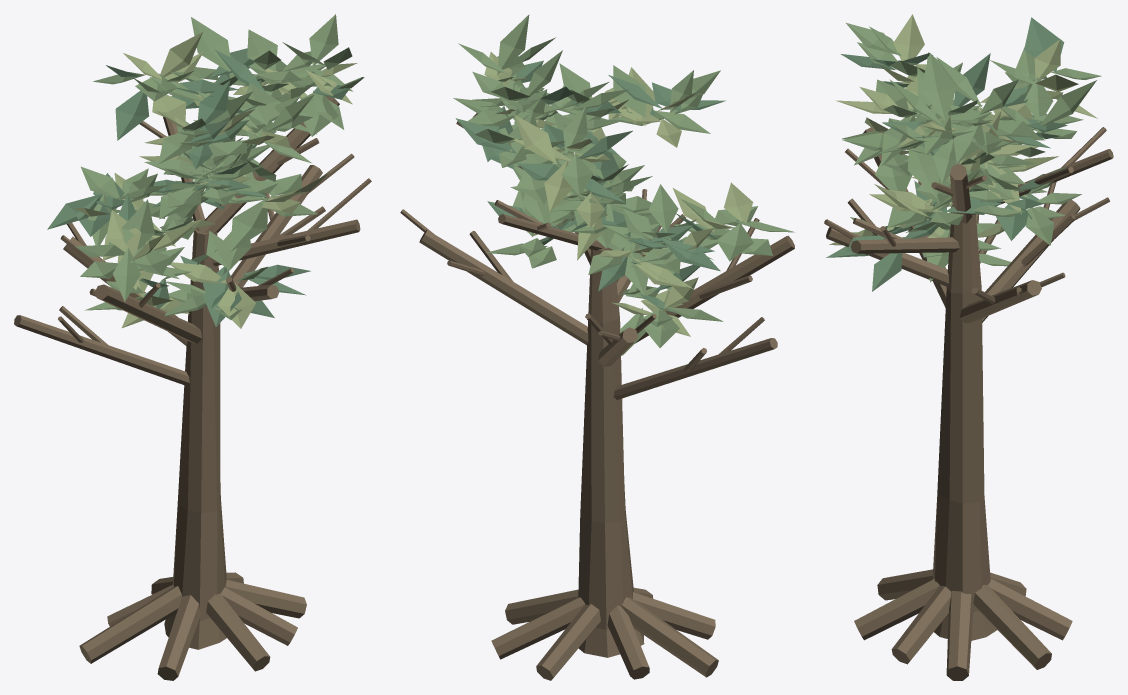
File: marsh_tree.glb
3 renders of one model, left to right at view 1: azimuth 30°, elevation 25°; view 2: azimuth 150°, elevation 25°; view 3: azimuth 270°, elevation 25°, orthographic. The views are drawn at different scales.
Parts seen in each view (by area): view 1: marsh_tree LOD0; view 2: marsh_tree LOD0; view 3: marsh_tree LOD0.
Part boxes in pixels (x1=…): marsh_tree LOD0: x1=14, y1=14, x2=371, y2=680; marsh_tree LOD0: x1=400, y1=14, x2=794, y2=680; marsh_tree LOD0: x1=824, y1=14, x2=1113, y2=680.
Size of what is drawn, in the model's own units: 5.27 by 8.29 by 3.54.
